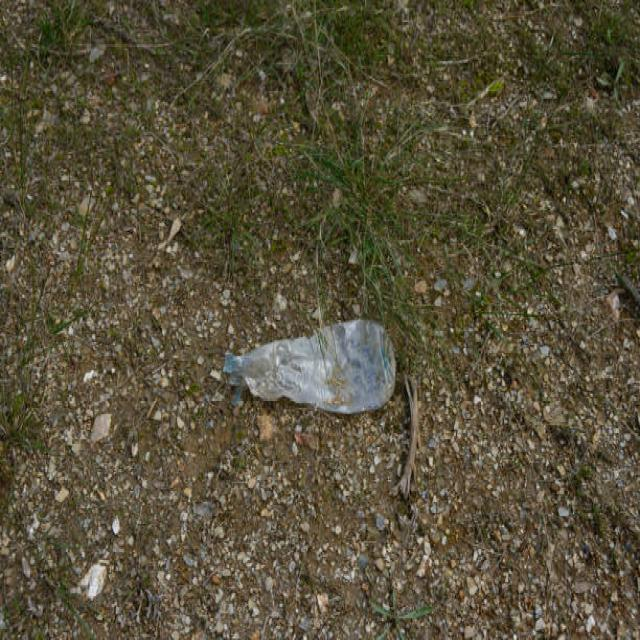electronic: (220, 314, 396, 420)
